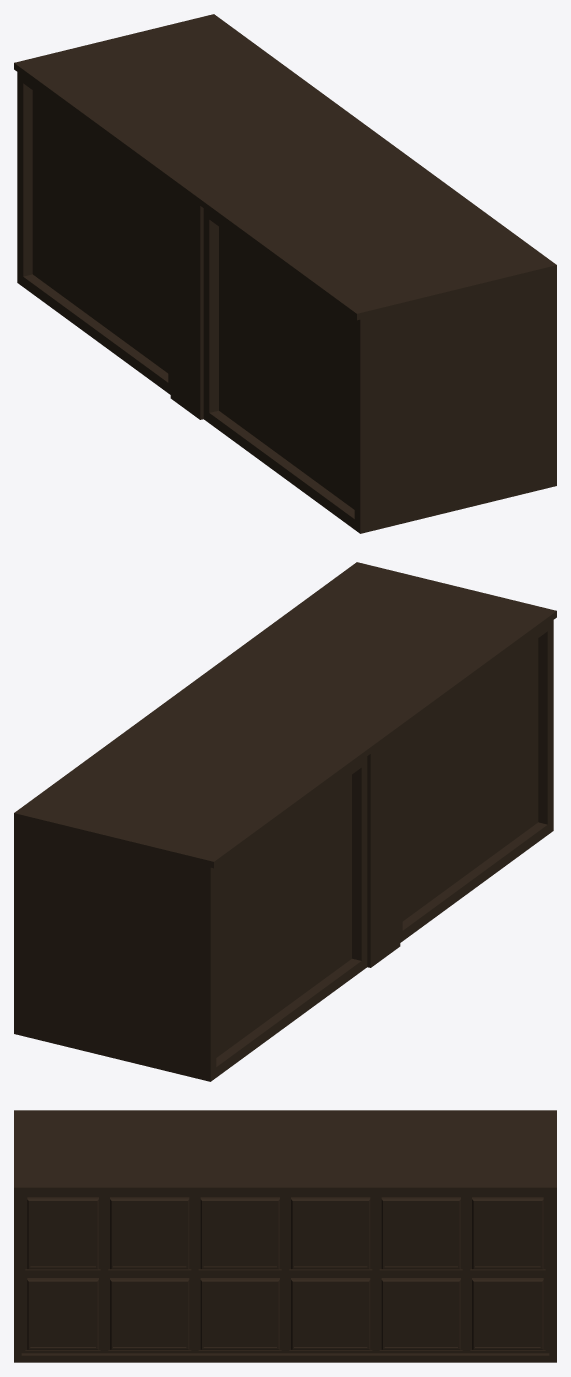
The model's file is Counter_2.fbx.
3 views of the same model, one above another, from view 1: azimuth 30°, elevation 25°; view 2: azimuth 150°, elevation 25°; view 3: azimuth 270°, elevation 25° (orthographic). The views are drawn at different scales.
Visible parts, largest first — view 1: Cube.124; view 2: Cube.124; view 3: Cube.124.
Part boxes in pixels (x1,y1,x2,y2): Cube.124: (14, 14, 556, 533); Cube.124: (14, 562, 556, 1081); Cube.124: (14, 1110, 556, 1362).
Bounding box in the file's own units: 97.67 × 103 × 290.
